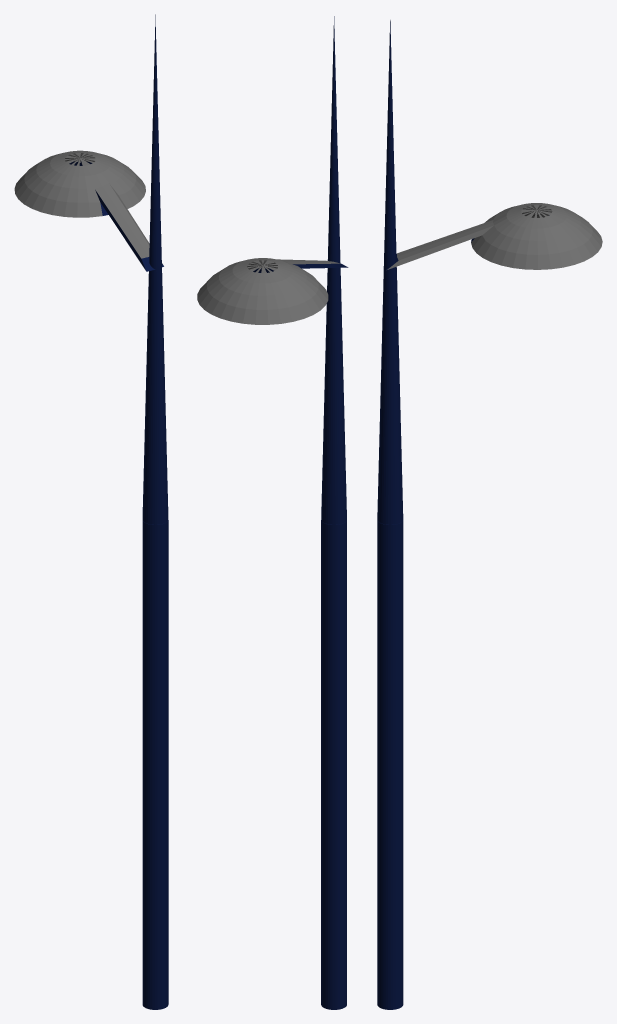
Rendered from light1.glb.
3 renders of one model, left to right at view 1: azimuth 30°, elevation 25°; view 2: azimuth 150°, elevation 25°; view 3: azimuth 270°, elevation 25°, orthographic.
Visible parts, largest first — view 1: 球体; view 2: 球体; view 3: 球体.
Boxes of the visible parts, left/top/right/bottom form: 球体: left=14, top=14, right=168, bottom=1009; 球体: left=197, top=16, right=348, bottom=1009; 球体: left=377, top=20, right=602, bottom=1009.
Bounding box in the file's own units: 1.66 × 13.8 × 2.84.
